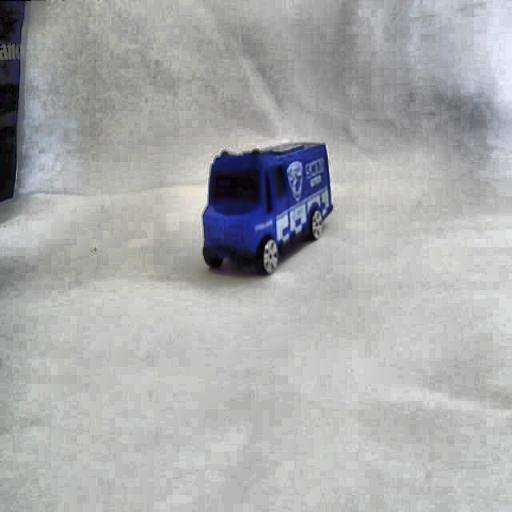police car: (202, 139, 333, 273)
